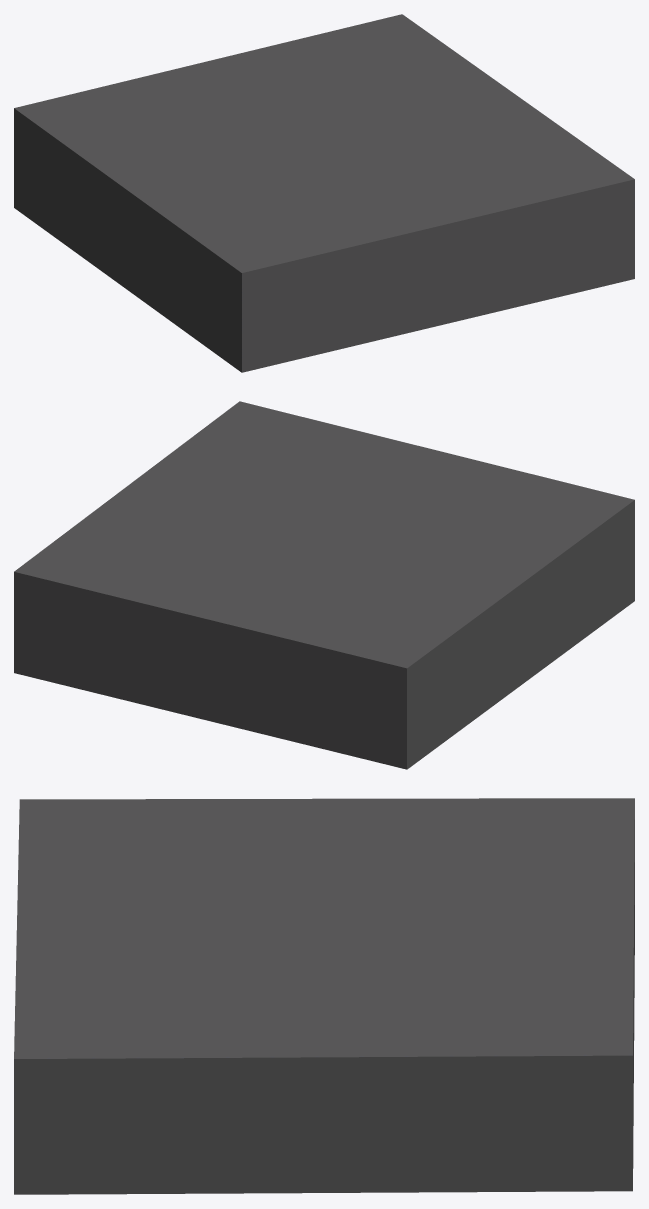
File: Квадратная дорога.fbx
The picture shows the model from 3 angles, top to bottom: view 1: azimuth 30°, elevation 25°; view 2: azimuth 150°, elevation 25°; view 3: azimuth 270°, elevation 25°; orthographic projection. The views are drawn at different scales.
Visible parts, largest first — view 1: root; view 2: root; view 3: root.
Boxes of the visible parts, x1,y1,x2,y2 form: root: [14, 14, 634, 372]; root: [14, 401, 634, 769]; root: [14, 798, 634, 1194].
Bounding box in the file's own units: 0.5216 × 0.1265 × 0.5246.
Materials: 1 (1 with a texture image).
